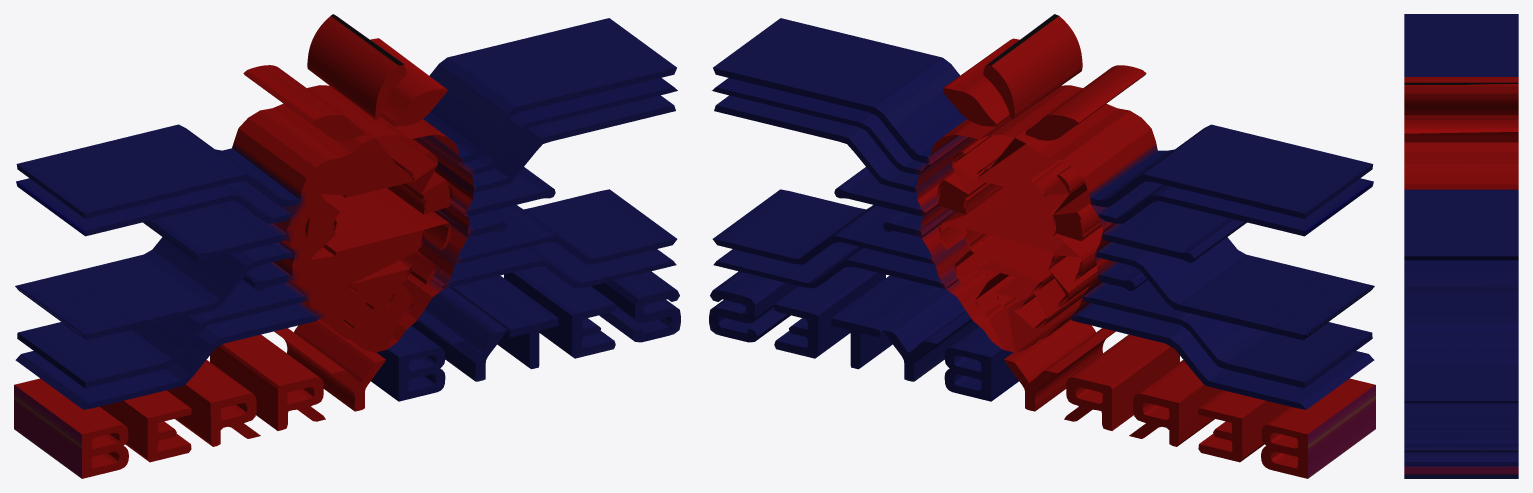
Rendered from berry-bytes.glb.
3 renders of one model, left to right at view 1: azimuth 30°, elevation 25°; view 2: azimuth 150°, elevation 25°; view 3: azimuth 270°, elevation 25°, orthographic. The views are drawn at different scales.
Visible parts, largest first — view 1: Curve; view 2: Curve; view 3: Curve.
Part boxes in pixels (bbox=[...]): Curve: bbox=[14, 14, 680, 478]; Curve: bbox=[709, 14, 1375, 478]; Curve: bbox=[1404, 14, 1518, 478].
Bounding box in the file's own units: 0.0255 × 0.0137 × 0.005.
1 material, 1 textured.
